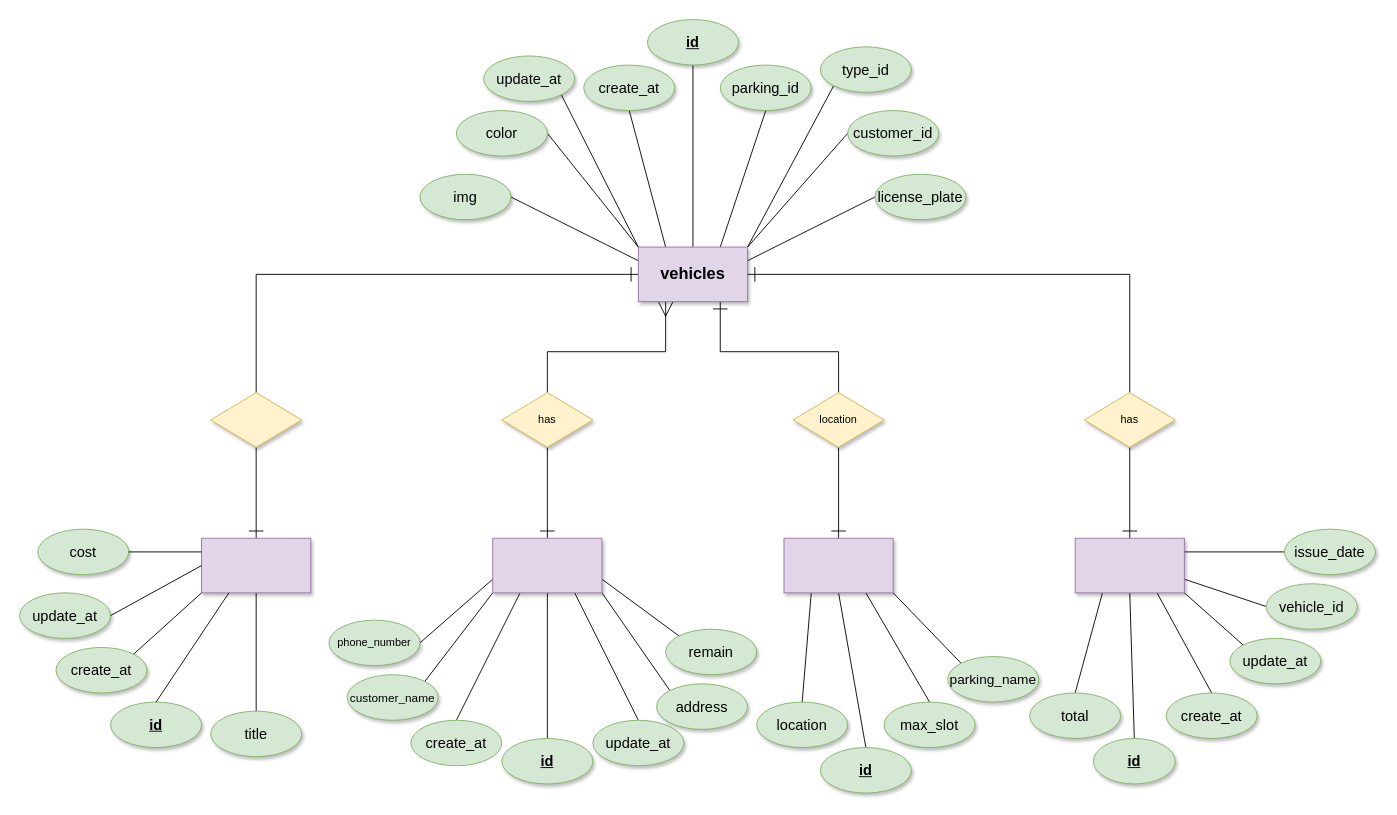
Image size: 1397x815. Some labels were removed from this diagram. The centre of each missing label's shape, as x and y in pixels:
customers: point (547, 566)
parking: point (839, 566)
ticket: point (1130, 566)
types: point (256, 566)
vehicle_type: point (256, 421)
